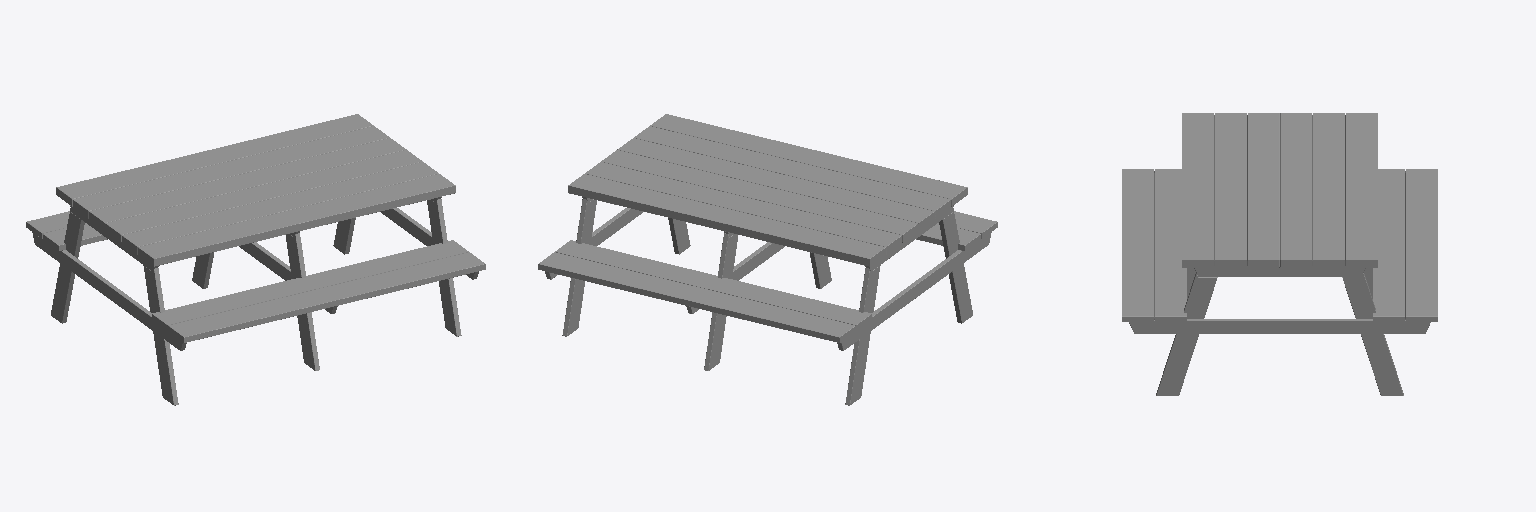
File: wood_bench.obj
3 renders of one model, left to right at view 1: azimuth 30°, elevation 25°; view 2: azimuth 150°, elevation 25°; view 3: azimuth 270°, elevation 25°, orthographic.
Parts seen in each view (by area): view 1: Rectangle073; view 2: Rectangle073; view 3: Rectangle073.
Part boxes in pixels (x1,y1,x2,y2): Rectangle073: (26, 114, 485, 405); Rectangle073: (538, 114, 997, 405); Rectangle073: (1122, 113, 1437, 395).
Bounding box in the file's own units: 1600 × 706 × 1452.